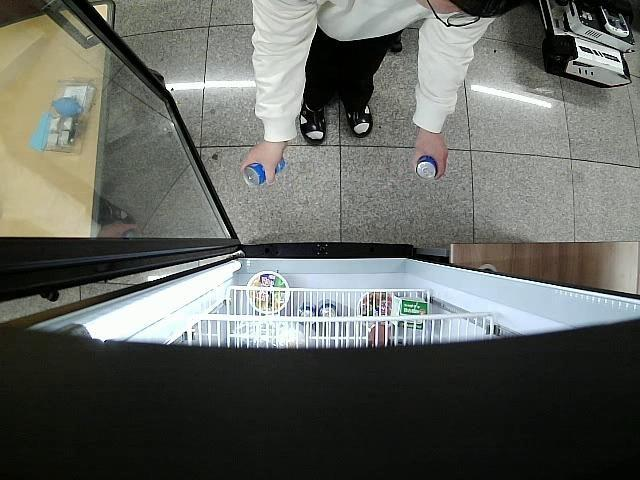15_letsbe: (243, 158, 284, 186), (416, 154, 438, 182)
